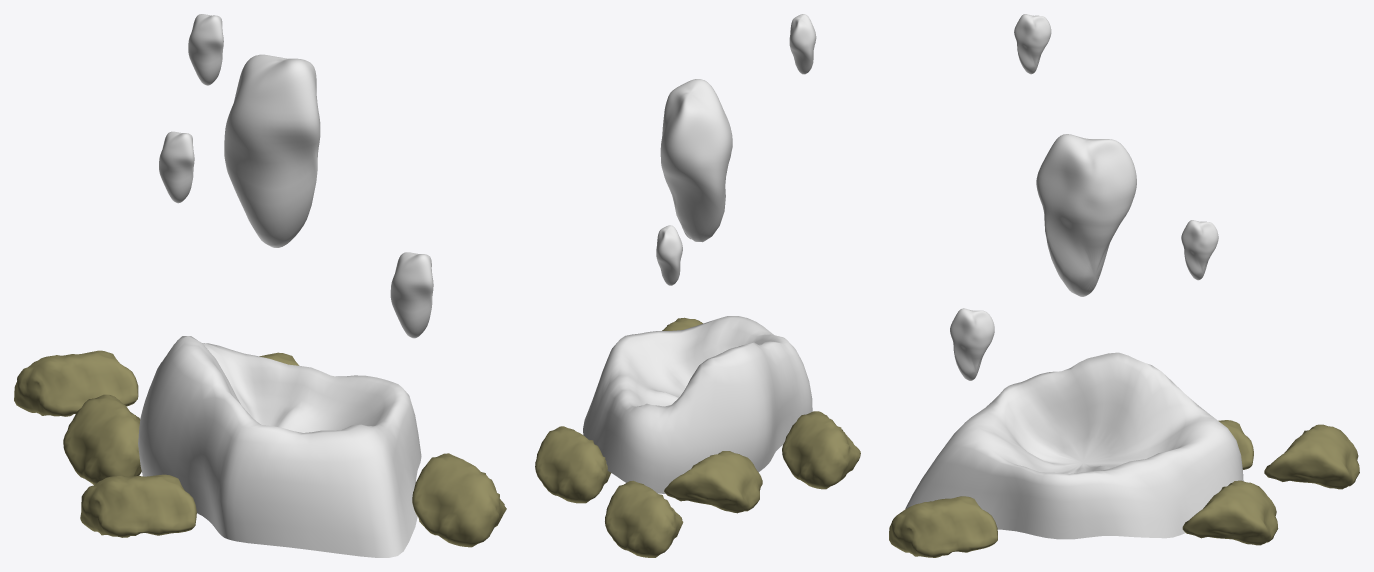
The model's file is Stone 1.fbx.
3 views of the same model, side by side, from view 1: azimuth 30°, elevation 25°; view 2: azimuth 150°, elevation 25°; view 3: azimuth 270°, elevation 25° (orthographic). The views are drawn at different scales.
Parts seen in each view (by area): view 1: Sphere.001, Sphere, Rocks_Mossy_Large002_Volume8.000, Rocks_Mossy_Large002_Volume8.004, Rocks_Mossy_Large002_Volume8.001, Rocks_Mossy_Large002_Volume8.003, Sphere.002, Sphere.003, Sphere.004; view 2: Sphere.001, Sphere, Rocks_Mossy_Large002_Volume8.001, Rocks_Mossy_Large002_Volume8.004, Rocks_Mossy_Large002_Volume8.002, Rocks_Mossy_Large002_Volume8.003, Sphere.004, Sphere.003; view 3: Sphere.001, Sphere, Rocks_Mossy_Large002_Volume8.000, Rocks_Mossy_Large002_Volume8.002, Rocks_Mossy_Large002_Volume8.001, Sphere.002, Sphere.004, Sphere.003, Rocks_Mossy_Large002_Volume8.003.
Part boxes in pixels (box(x1,y1,x2,y2)): Sphere.001: box(138, 336, 421, 557); Sphere: box(224, 54, 320, 247); Rocks_Mossy_Large002_Volume8.000: box(412, 453, 506, 547); Rocks_Mossy_Large002_Volume8.004: box(80, 474, 196, 537); Rocks_Mossy_Large002_Volume8.001: box(14, 350, 138, 416); Rocks_Mossy_Large002_Volume8.003: box(63, 394, 141, 484); Sphere.002: box(390, 252, 433, 338); Sphere.003: box(188, 14, 223, 85); Sphere.004: box(159, 131, 194, 203); Sphere.001: box(583, 316, 812, 493); Sphere: box(660, 79, 732, 242); Rocks_Mossy_Large002_Volume8.001: box(605, 480, 683, 557); Rocks_Mossy_Large002_Volume8.004: box(782, 411, 860, 489); Rocks_Mossy_Large002_Volume8.002: box(535, 426, 610, 503); Rocks_Mossy_Large002_Volume8.003: box(664, 451, 762, 513); Sphere.004: box(656, 225, 682, 285); Sphere.003: box(789, 14, 816, 74); Sphere.001: box(905, 352, 1243, 539); Sphere: box(1036, 134, 1136, 296); Rocks_Mossy_Large002_Volume8.000: box(889, 496, 997, 557); Rocks_Mossy_Large002_Volume8.002: box(1182, 480, 1278, 545); Rocks_Mossy_Large002_Volume8.001: box(1264, 424, 1359, 489); Sphere.002: box(950, 308, 994, 380); Sphere.004: box(1181, 220, 1218, 280); Sphere.003: box(1014, 14, 1051, 74); Rocks_Mossy_Large002_Volume8.003: box(1218, 420, 1253, 469).
Bounding box in the file's own units: 451 × 696 × 647.
